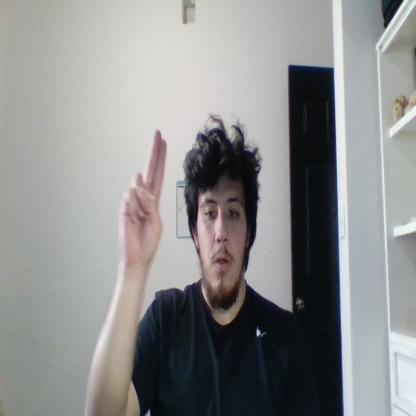U: (118, 128, 167, 263)
